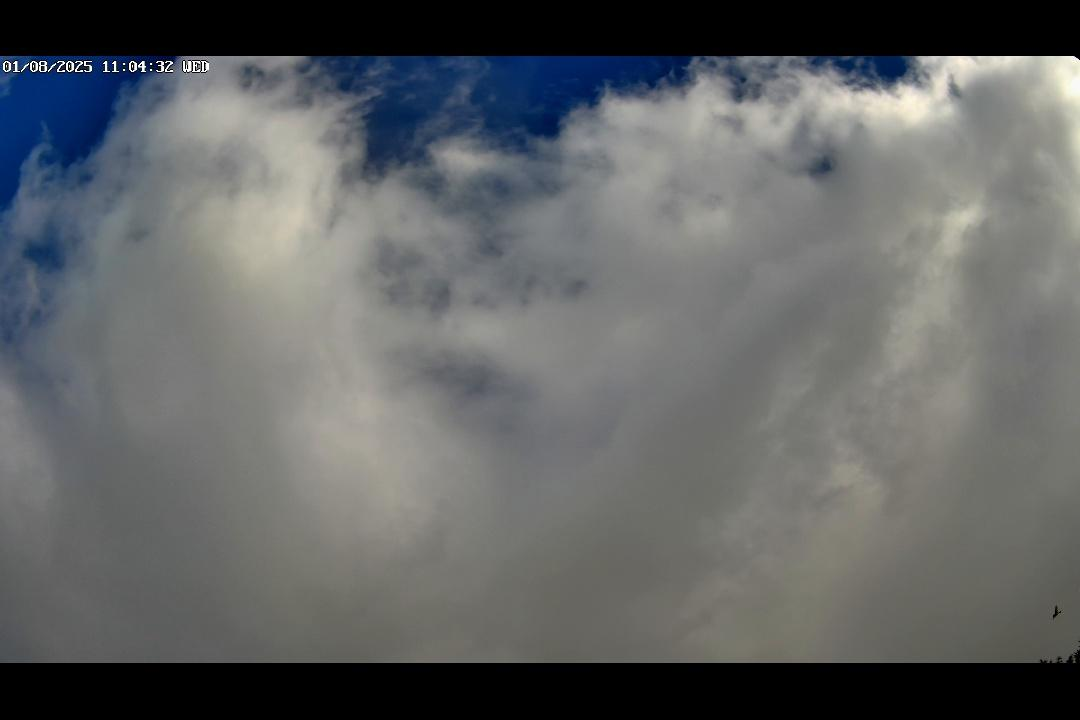WildLife: (1031, 602, 1078, 623)
